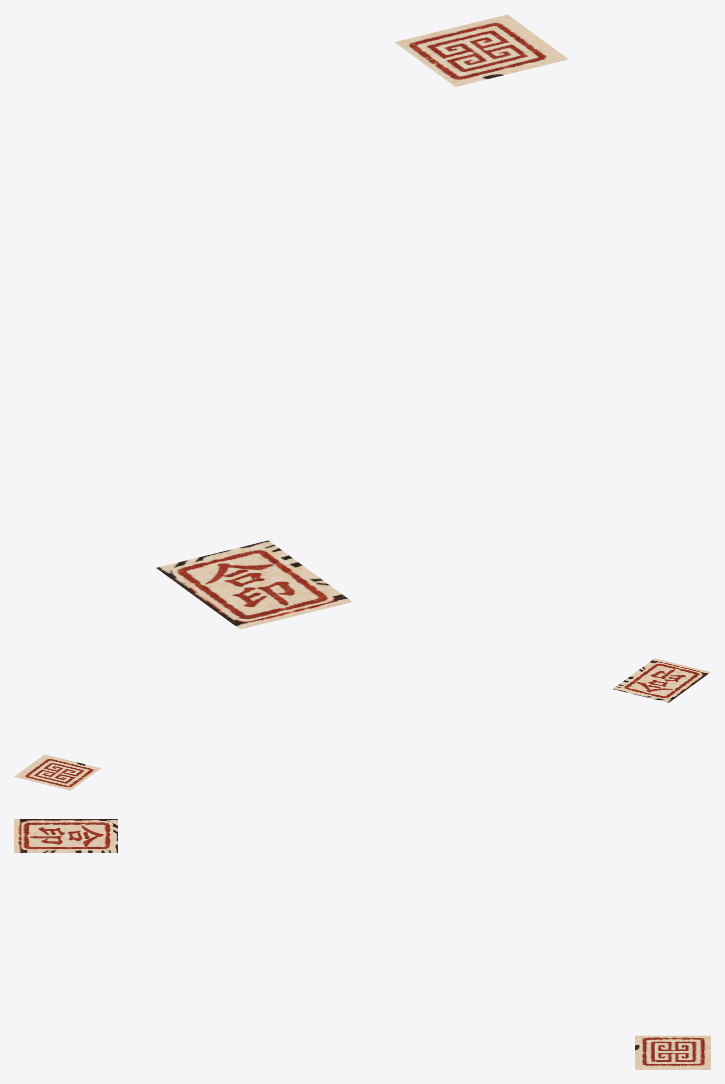
The model's file is layer_red_seal.glb.
3 views of the same model, one above another, from view 1: azimuth 30°, elevation 25°; view 2: azimuth 150°, elevation 25°; view 3: azimuth 270°, elevation 25° (orthographic). The views are drawn at different scales.
Parts seen in each view (by area): view 1: layer_red_seal__red_marks; view 2: layer_red_seal__red_marks; view 3: layer_red_seal__red_marks.
Part boxes in pixels (bbox=[...]): layer_red_seal__red_marks: bbox=[156, 14, 568, 629]; layer_red_seal__red_marks: bbox=[14, 658, 710, 790]; layer_red_seal__red_marks: bbox=[14, 819, 710, 1069].
Size of the model in its own units: 0.3245 by 0 by 0.3811.
Materials: 1 (1 with a texture image).
